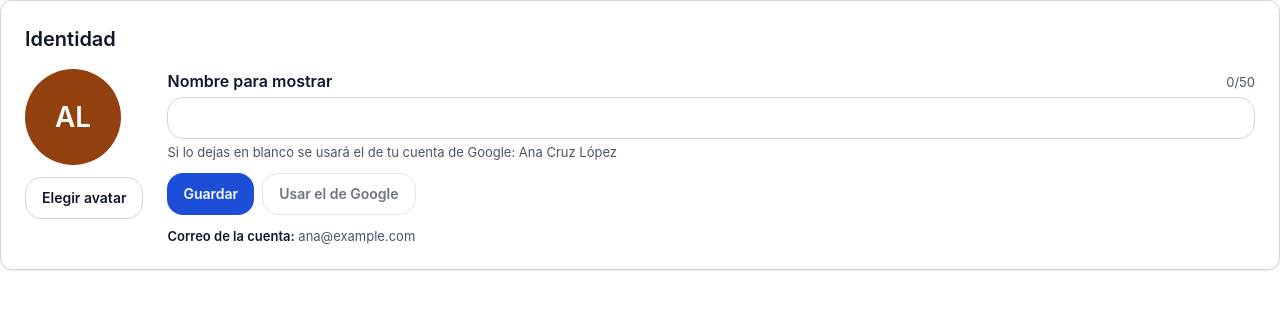
Test: <IdentitySection> › rechaza caracteres de control
This screenshot has width=1280, height=310.
Type "Ana Bel" into the field labelled "Nombre para mostrar" at x=711, y=118, box [168,97,1255,139]
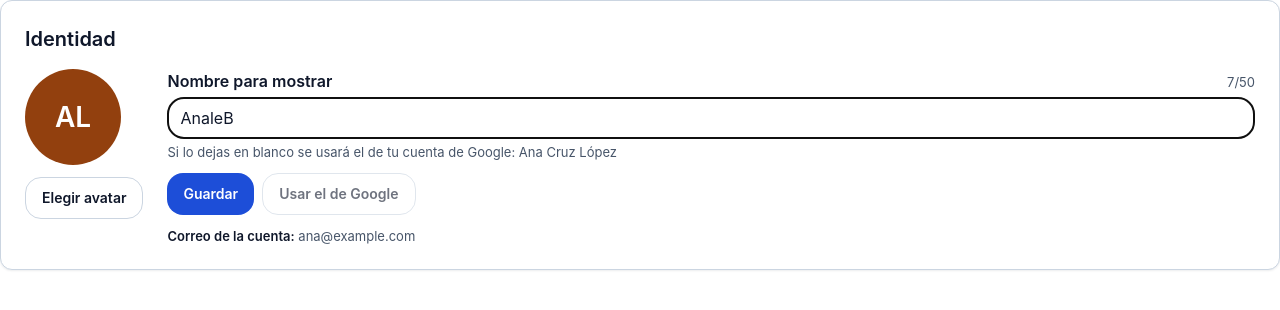
Click the button "Guardar" at x=211, y=194, box [168,173,254,215]
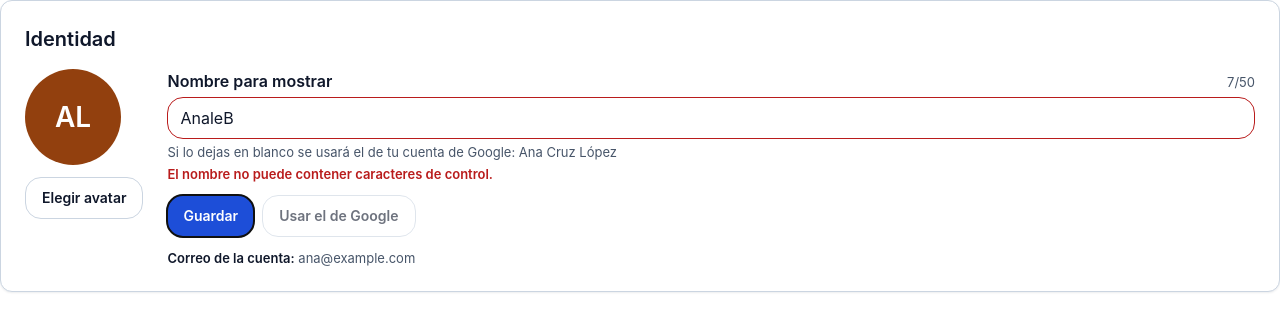
Expected: the message reads "El nombre no puede contener caracteres de control.", [168,166,493,182]
